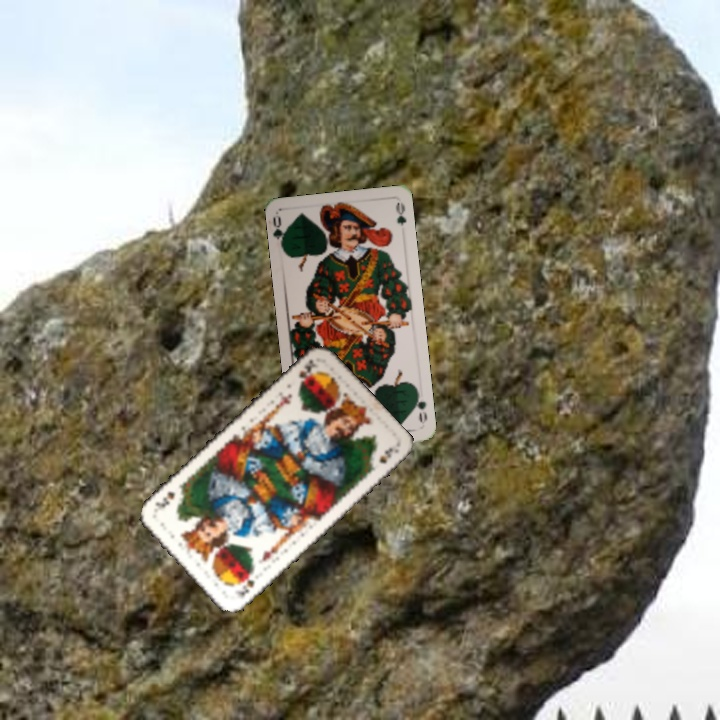GO: (269, 212, 290, 253), (410, 387, 430, 426)
SK: (294, 355, 320, 387), (232, 568, 257, 599)
